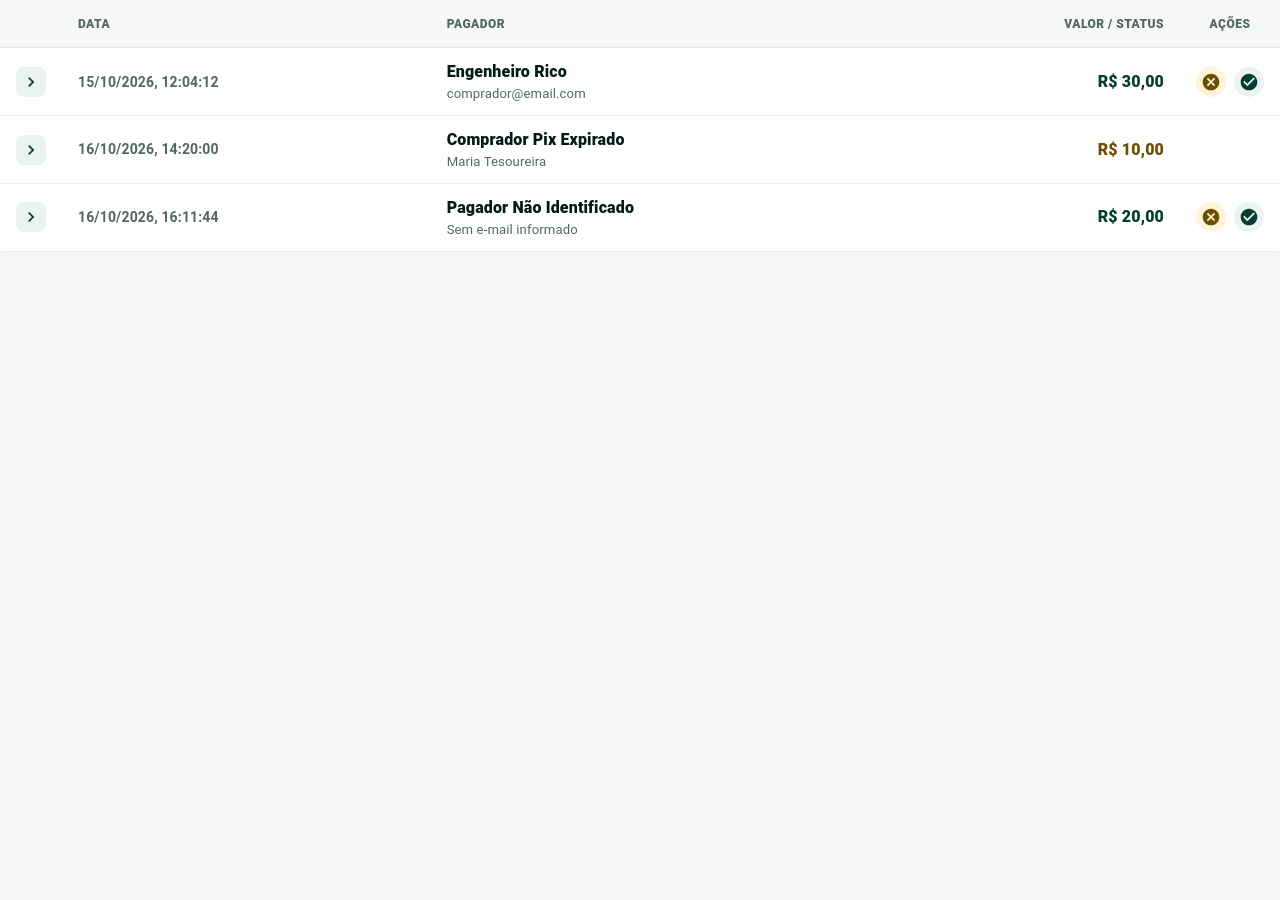
Componente: PixTransacoesTable › Deve mostrar transação sem vínculo local nos detalhes
The width and height of the screenshot is (1280, 900).
Expected: the text "Pagador Não Identificado" is shown, [447, 198, 634, 216]
Click the button named "abrir detalhes da transação pix pagador não identificado" at (31, 217), box [16, 202, 46, 232]
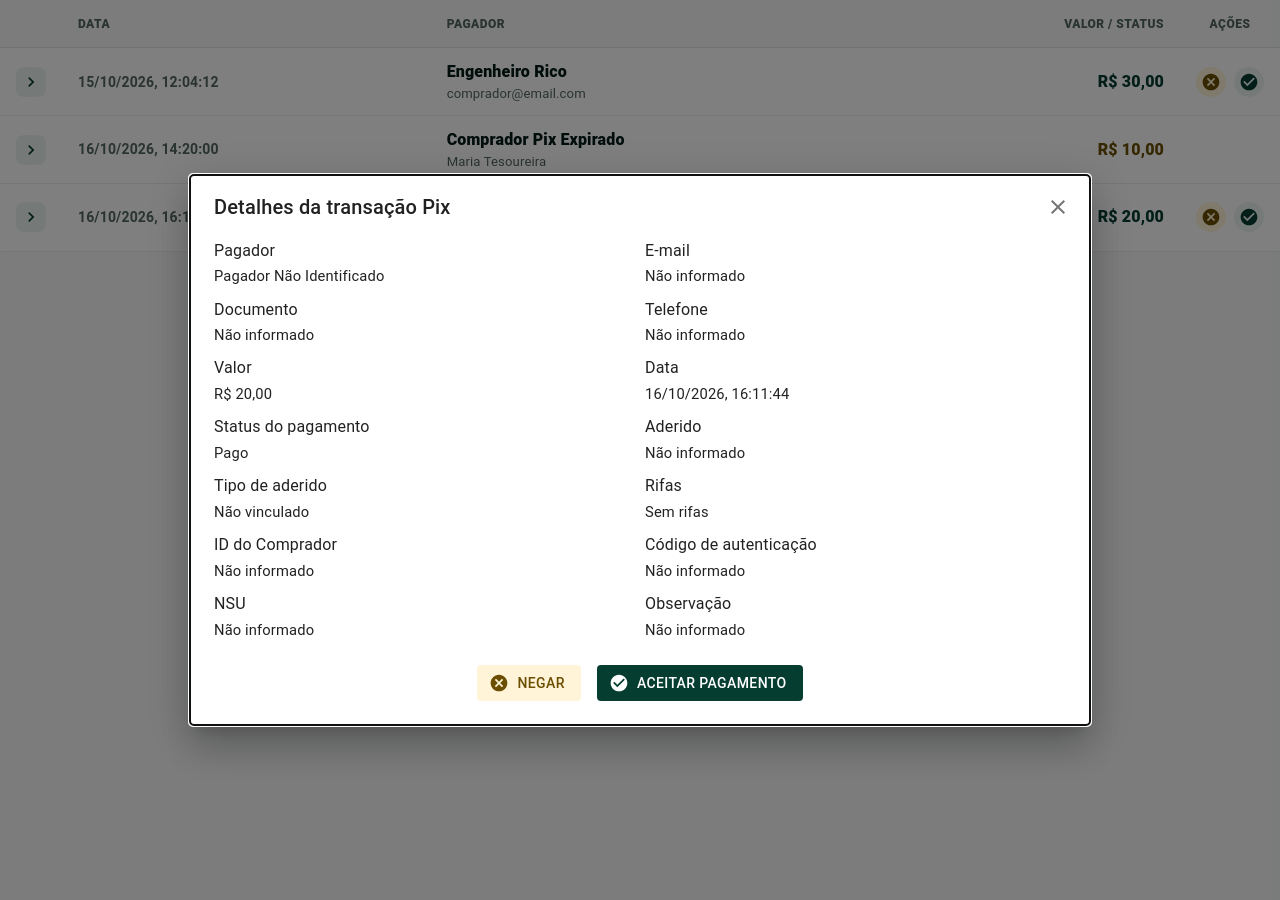
Now the text "Não vinculado" is shown, box [214, 503, 309, 521]
Now the text "Sem rifas" is shown, box [645, 503, 709, 521]
